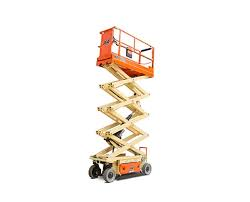Scissor Lift: (88, 26, 155, 183)
